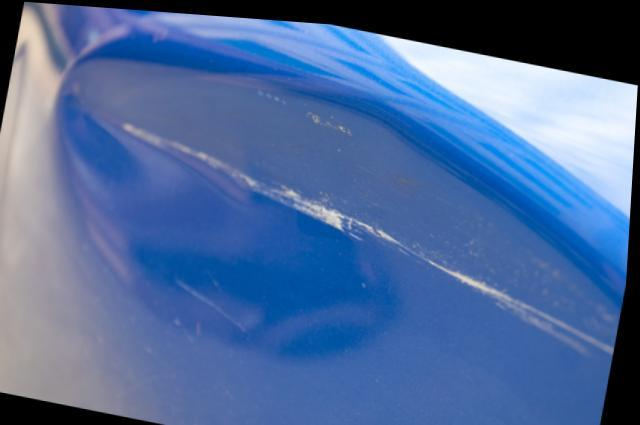dent: (66, 38, 397, 354)
